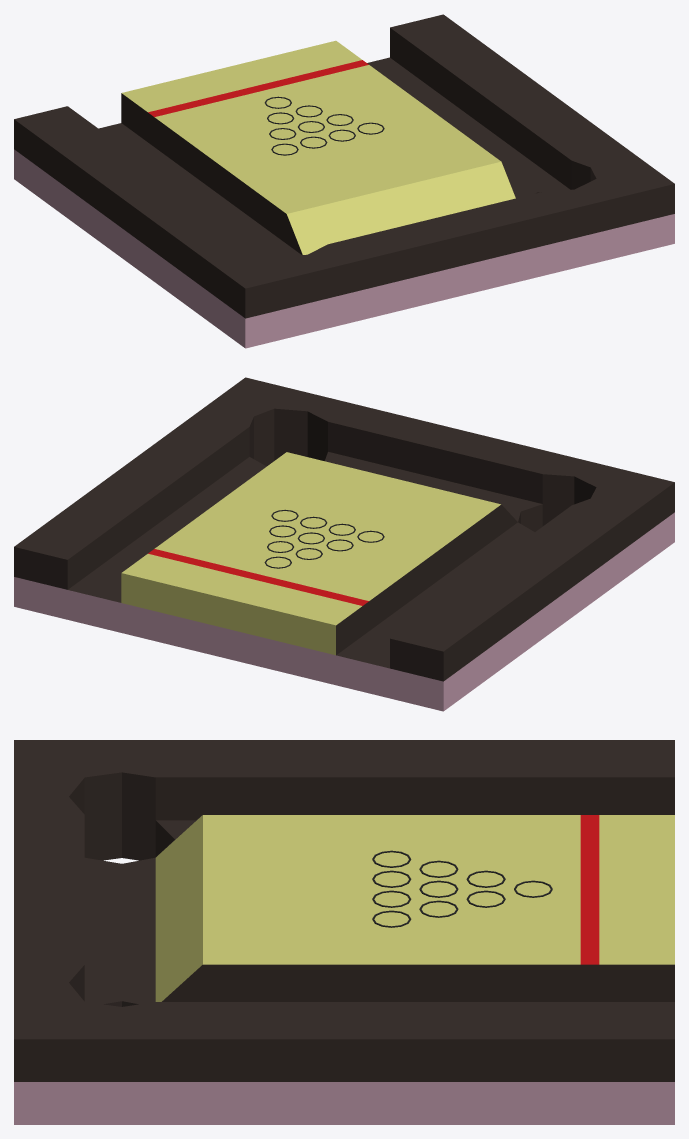
File: Alley End Section.fbx
The picture shows the model from 3 angles, top to bottom: view 1: azimuth 30°, elevation 25°; view 2: azimuth 150°, elevation 25°; view 3: azimuth 270°, elevation 25°; orthographic projection. The views are drawn at different scales.
Parts seen in each view (by area): view 1: Alley End Section, Pin Circles; view 2: Alley End Section, Pin Circles; view 3: Alley End Section, Pin Circles.
Boxes of the visible parts, <box> form: Alley End Section: <box>14,14,674,348</box>; Pin Circles: <box>264,96,384,155</box>; Alley End Section: <box>14,377,674,711</box>; Pin Circles: <box>264,509,384,568</box>; Alley End Section: <box>14,740,674,1124</box>; Pin Circles: <box>372,850,552,927</box>.
Size of the model in its own units: 3000 by 404 by 2800.
